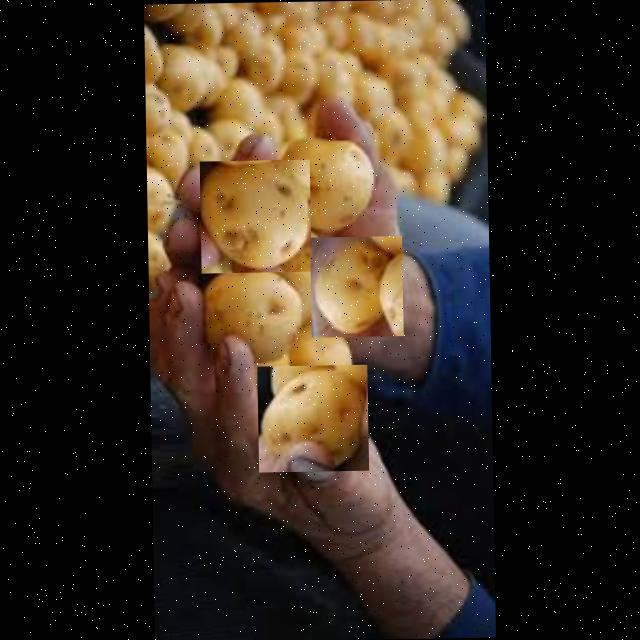Diseased-fungal potato: (199, 158, 311, 272), (256, 363, 368, 471), (202, 261, 304, 361), (274, 134, 376, 233), (310, 235, 404, 336)
